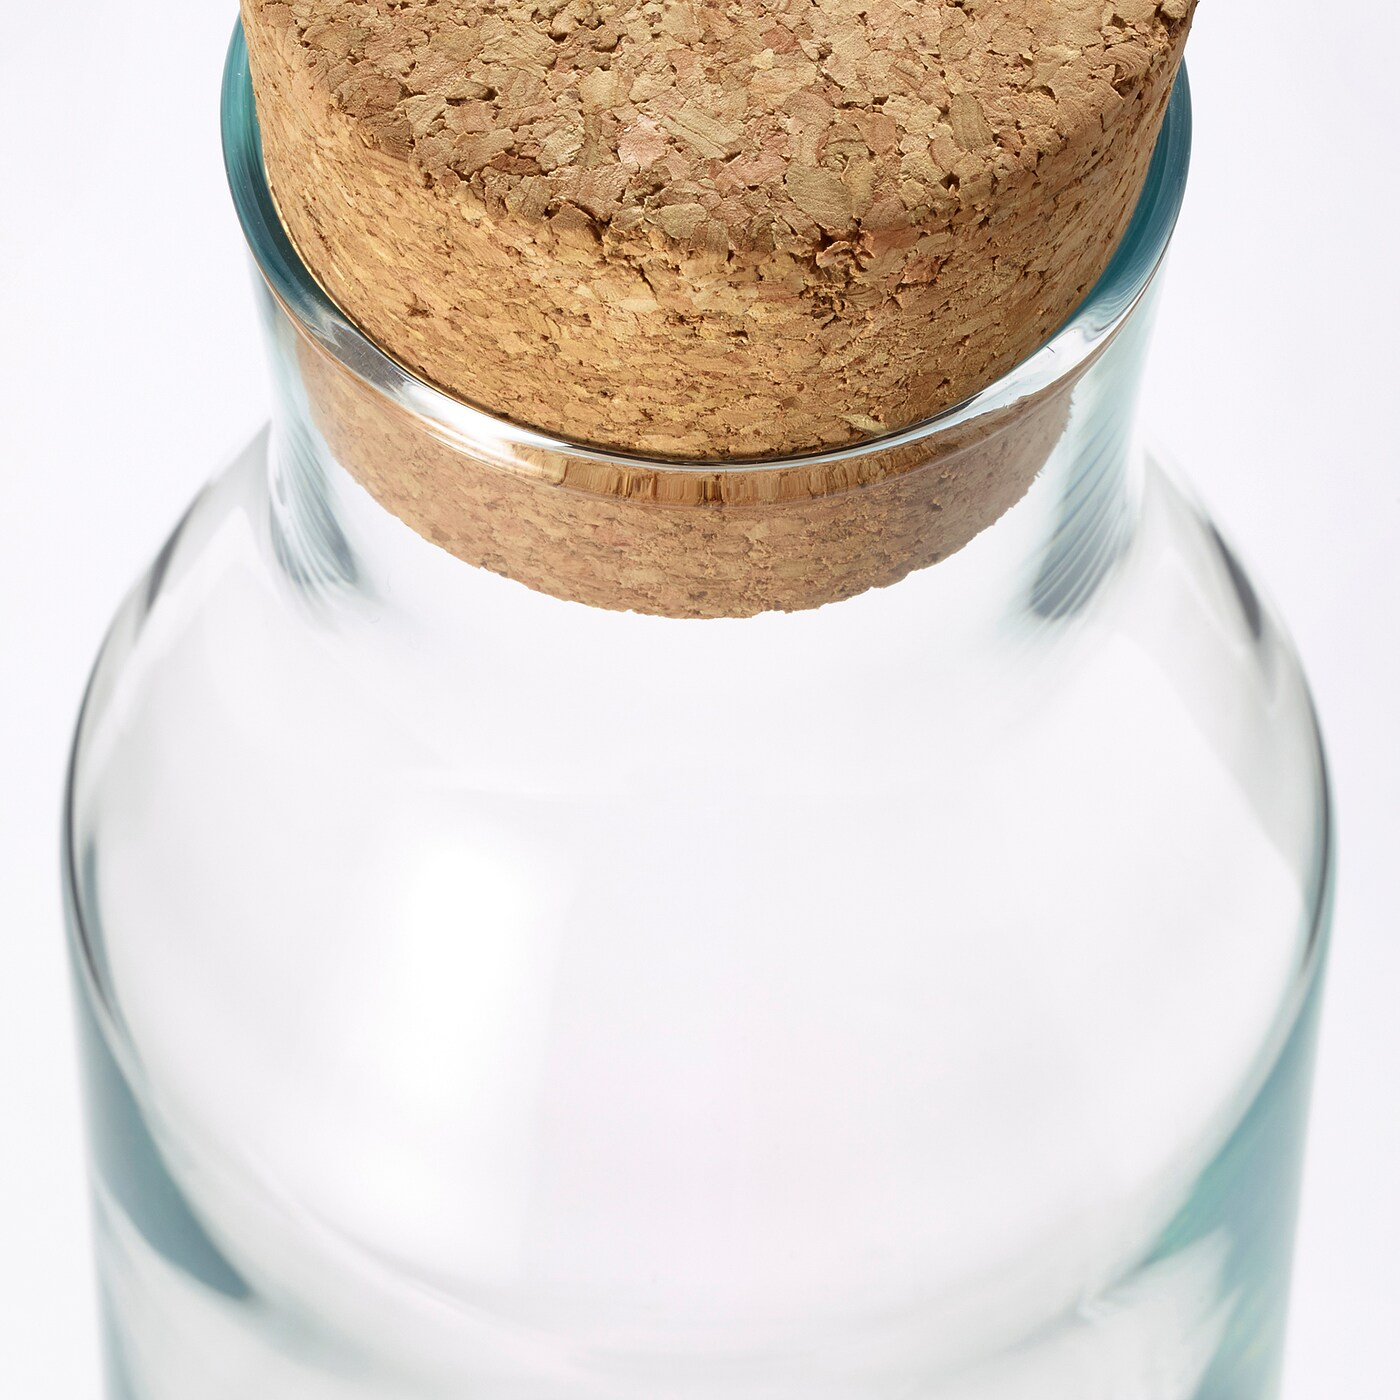glass_bottle: (44, 6, 1347, 1397)
